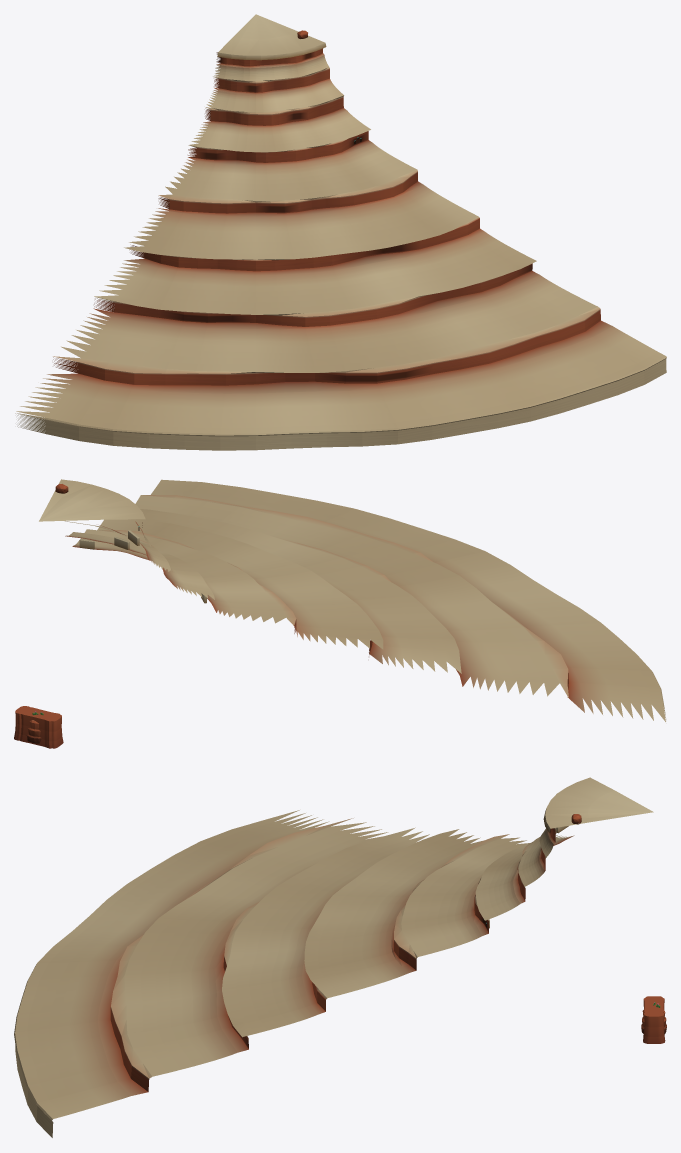
File: canyon-s3-BB5KSMmq.glb
3 renders of one model, top to bottom at view 1: azimuth 30°, elevation 25°; view 2: azimuth 150°, elevation 25°; view 3: azimuth 270°, elevation 25°, orthographic. The views are drawn at different scales.
Parts seen in each view (by area): view 1: sc_landmark_3; view 2: sc_landmark_3, sc_cliffbase; view 3: sc_landmark_3, sc_cliffbase.
Boxes of the visible parts, x1=… form: sc_landmark_3: x1=15, y1=14, x2=666, y2=450; sc_landmark_3: x1=39, y1=479, x2=666, y2=721; sc_cliffbase: x1=14, y1=706, x2=63, y2=748; sc_landmark_3: x1=14, y1=777, x2=653, y2=1137; sc_cliffbase: x1=643, y1=996, x2=665, y2=1043.
Size of the model in its own units: 492 by 181 by 438.
